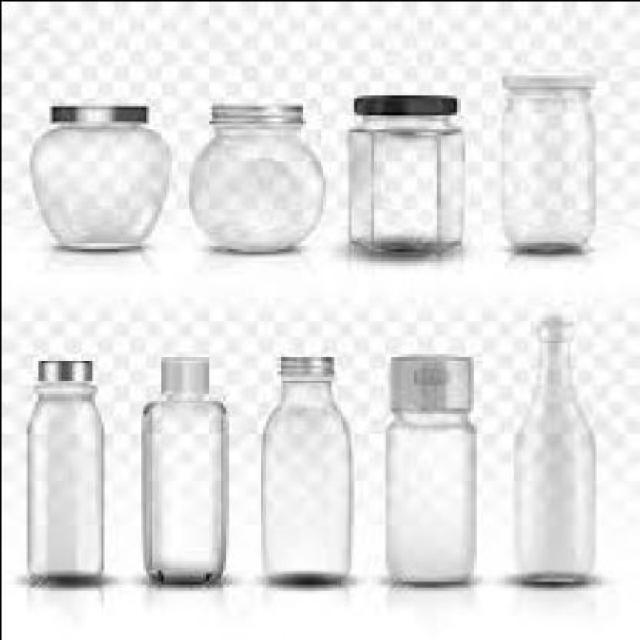GLASS: (258, 375, 356, 583), (518, 319, 594, 583), (190, 122, 330, 250), (34, 120, 171, 246), (144, 387, 228, 581), (350, 112, 467, 250), (389, 405, 478, 580), (503, 84, 600, 244), (31, 378, 106, 577)
METAL: (356, 91, 462, 111), (210, 102, 307, 122), (162, 350, 210, 390), (55, 102, 156, 120), (43, 353, 97, 381), (278, 352, 336, 372)
PLASTIC: (389, 347, 478, 407), (506, 66, 600, 88)
